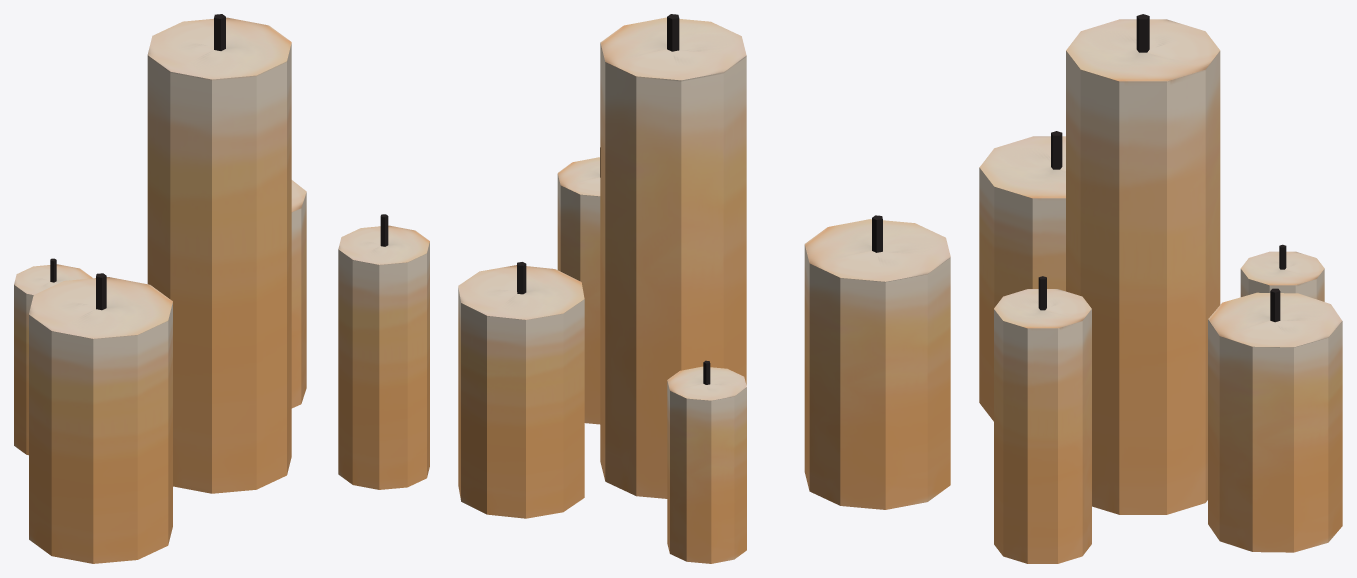
File: Candles.fbx
3 views of the same model, side by side, from view 1: azimuth 30°, elevation 25°; view 2: azimuth 150°, elevation 25°; view 3: azimuth 270°, elevation 25° (orthographic). The views are drawn at different scales.
Visible parts, largest first — view 1: Candles; view 2: Candles; view 3: Candles.
Boxes of the visible parts, bbox=[...] form: Candles: bbox=[14, 14, 429, 563]; Candles: bbox=[458, 14, 950, 563]; Candles: bbox=[979, 14, 1342, 563].
Size of the model in its own units: 35.74 by 28.56 by 40.89.
